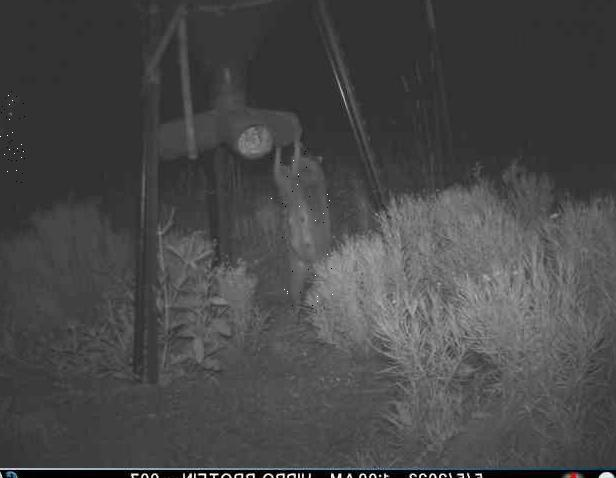Deer: (0, 90, 26, 184)
Raccoon: (268, 147, 332, 312)
